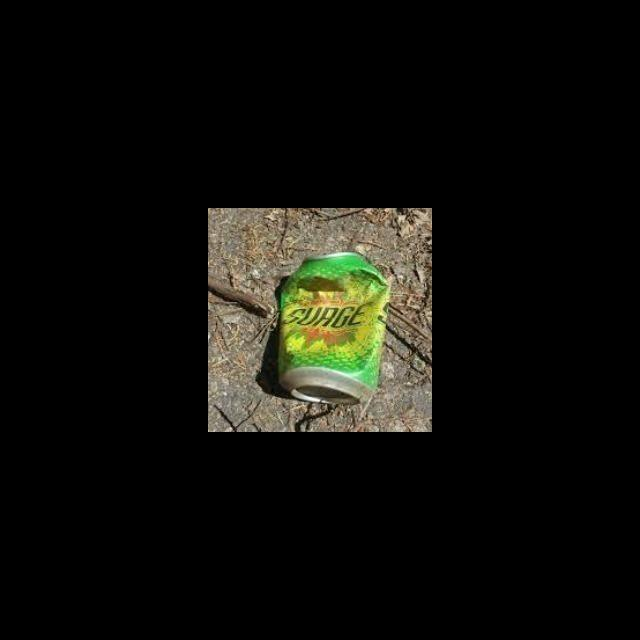metal: (265, 238, 393, 417)
